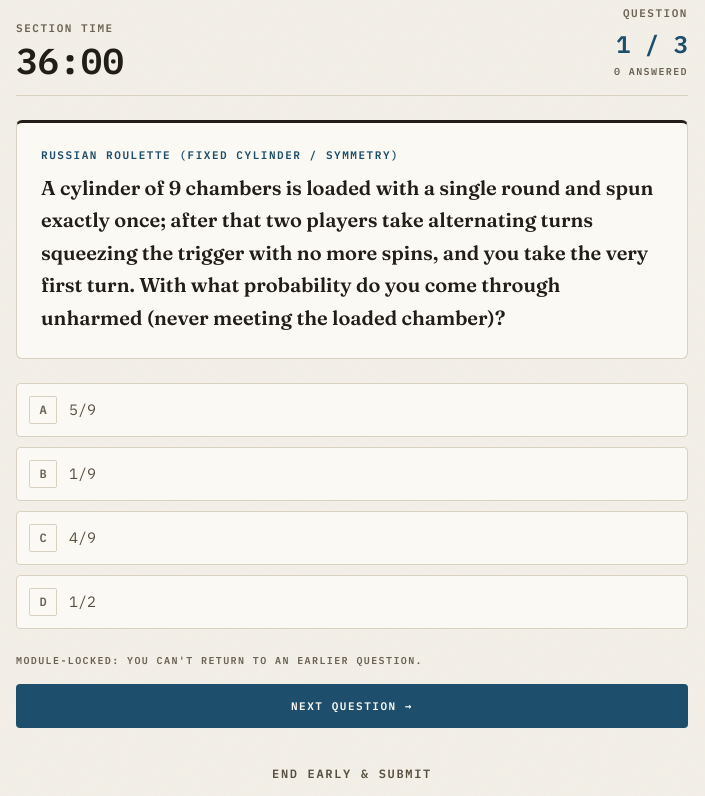
Test: OaRunner — DERIVATION SET (IMC-style module-locked section) › shows 'Submit section' (not 'Next question') on the final question
The image size is (705, 796).
What coordinates should you click on to do the following:
click the button "Next question →"
I would click on:
 (352, 706)
Its box is [16,684,688,728].
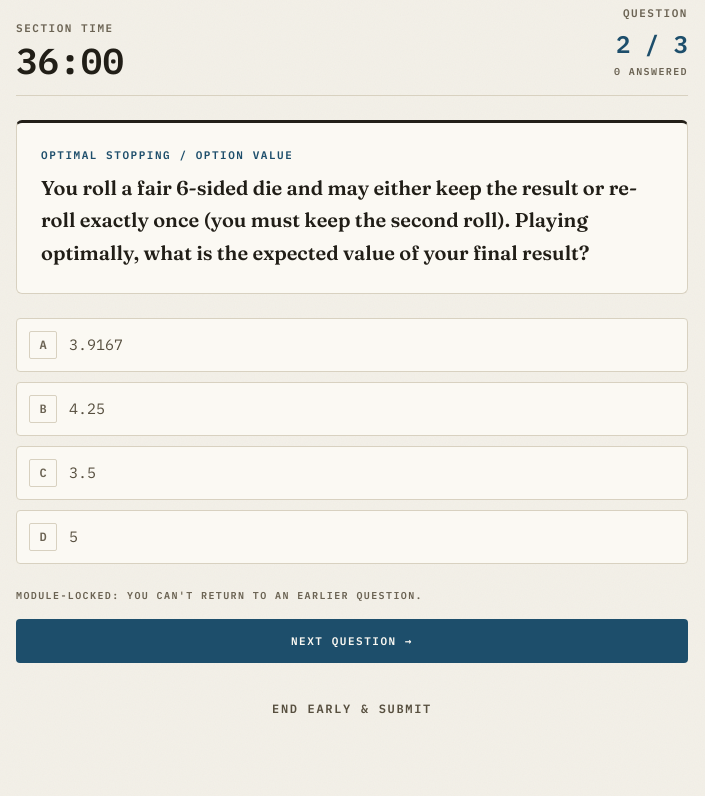
What coordinates should you click on to do the following:
click the button "Next question →"
I would click on:
 (352, 641)
Its box is [16,619,688,663].
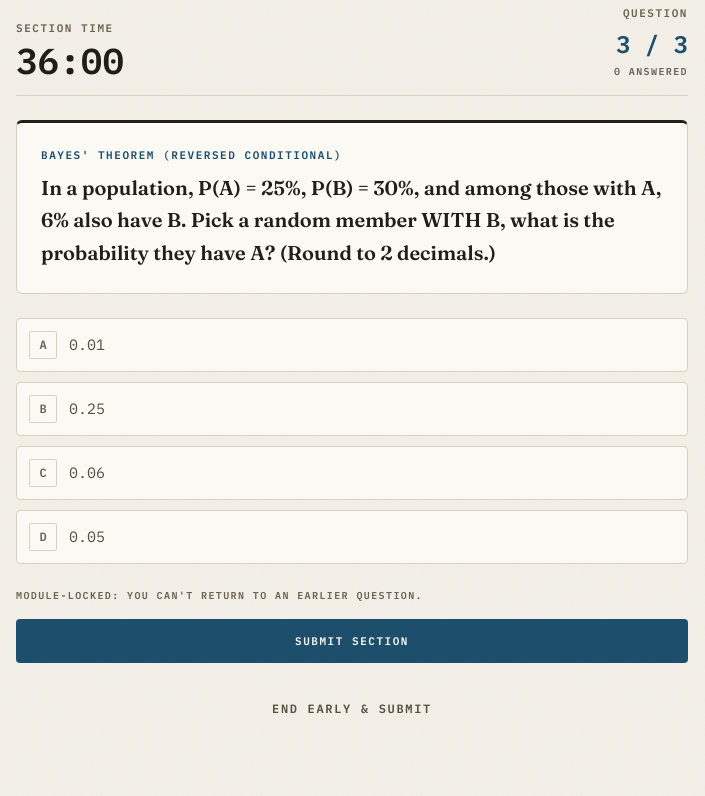
Now the text "3 / 3" is shown, box [614,28,688,60]
Now the button "Submit section" is shown, box [16,619,688,663]
Now the button "Next question →" is gone
